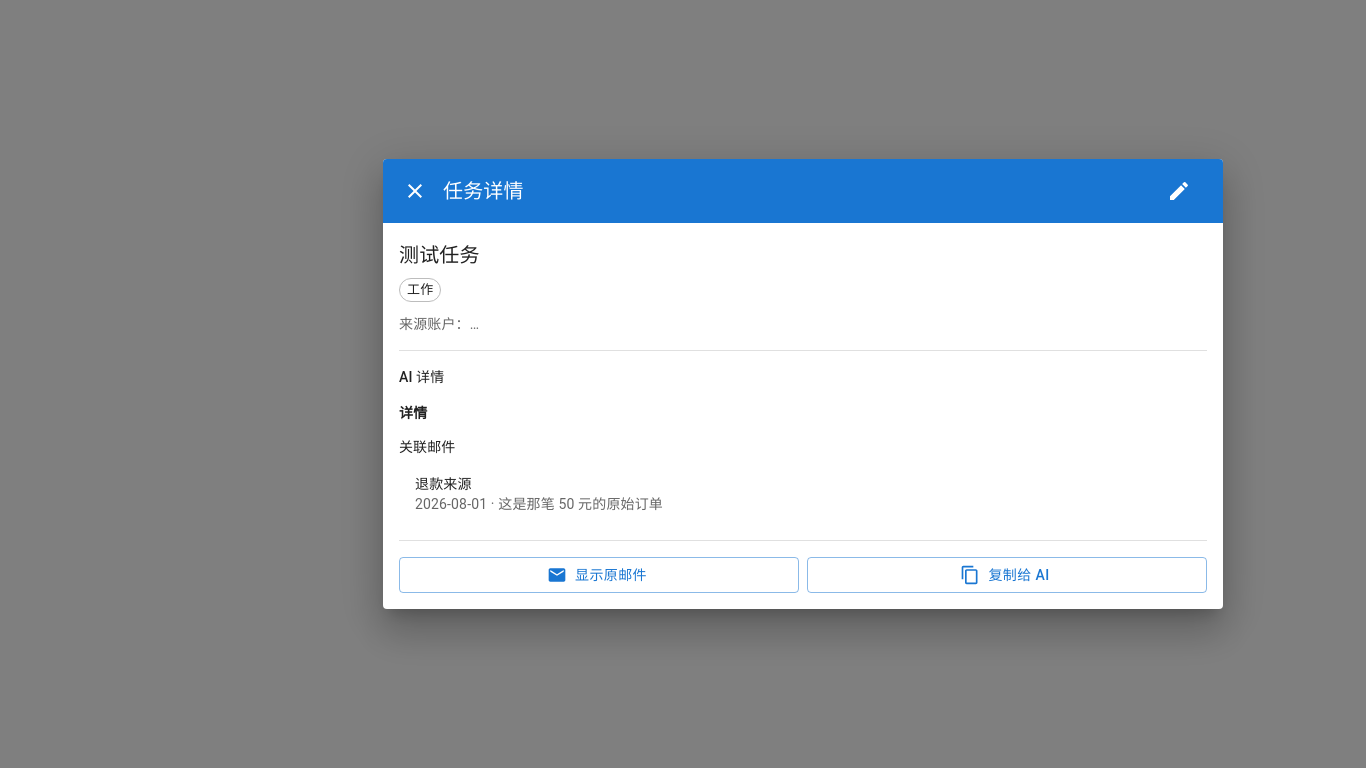
Scenario: ItemDialog › 剪贴板写入失败时提示「复制失败」
expect the text "退款来源" is shown: met, box [415,476,472,492]
Step 1. Click the button "复制给 AI" → (1007, 575), box [807,557,1207,593]
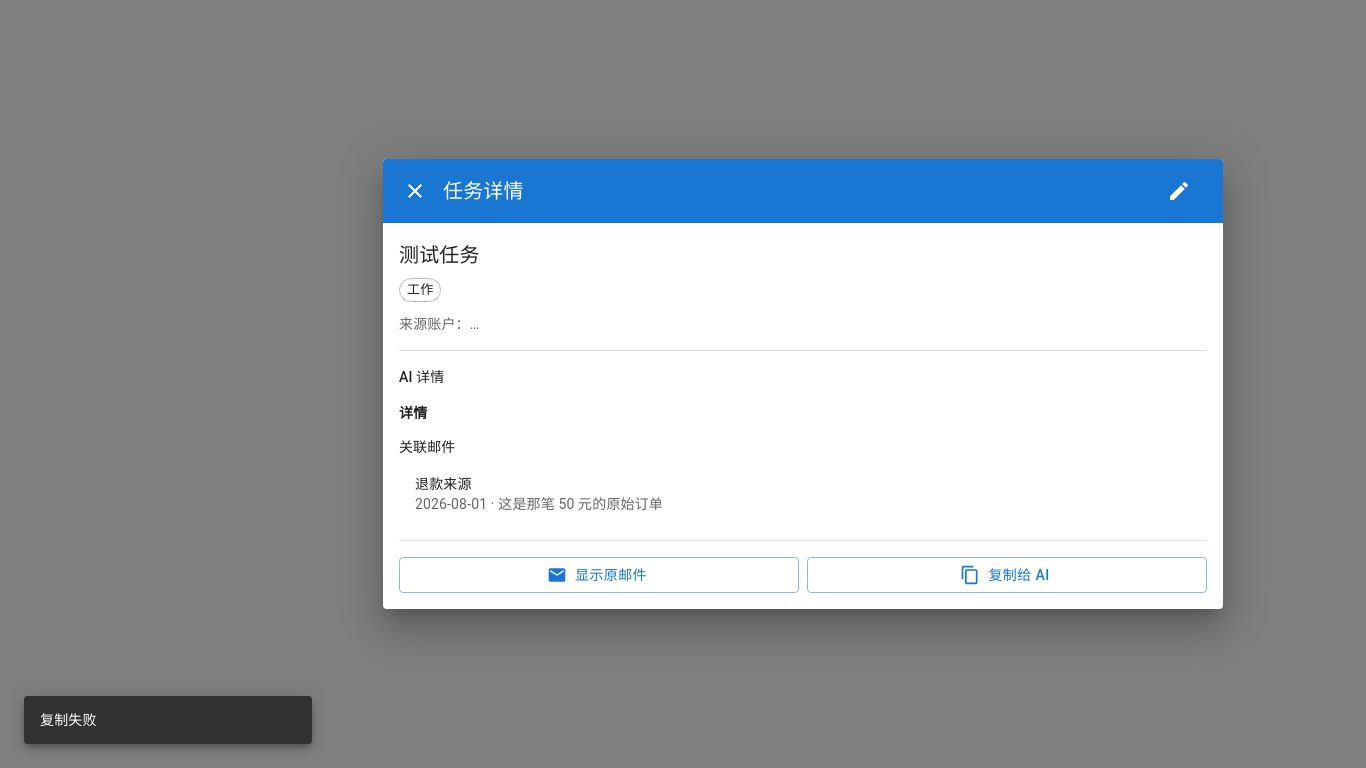
expect the text "复制失败" is shown: met, box [40,712,97,728]
